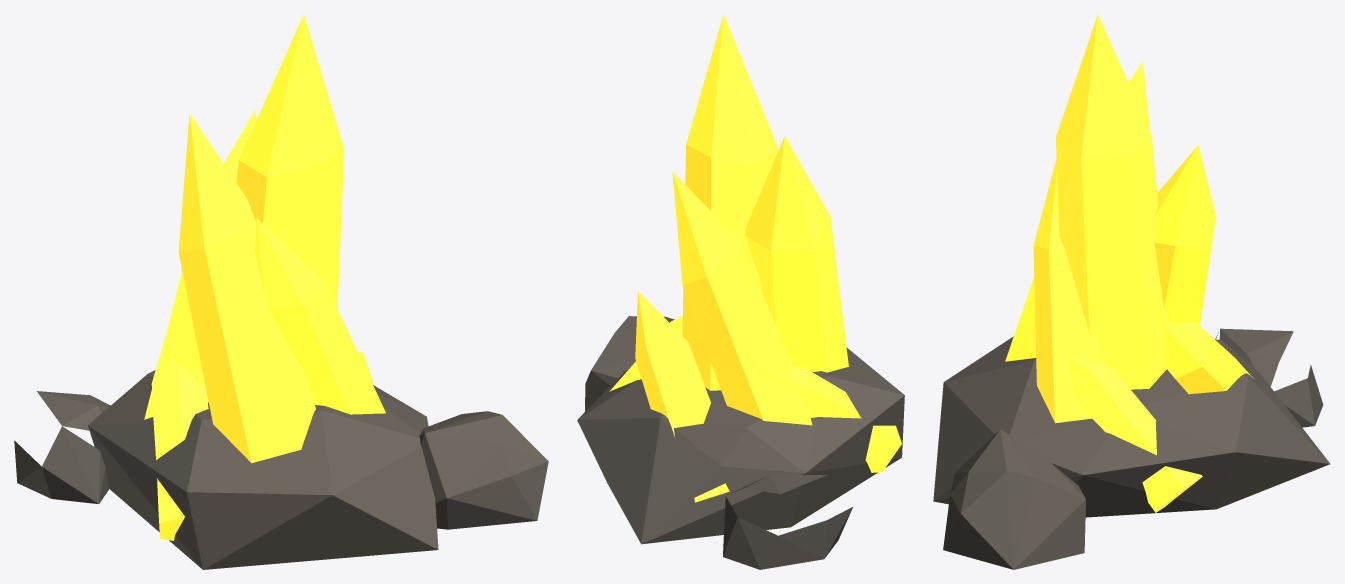
File: resource_sodium.glb
3 renders of one model, left to right at view 1: azimuth 30°, elevation 25°; view 2: azimuth 150°, elevation 25°; view 3: azimuth 270°, elevation 25°, orthographic. The views are drawn at different scales.
Parts seen in each view (by area): view 1: Body; view 2: Body; view 3: Body.
Boxes of the visible parts, x1,y1,x2,y2 form: Body: (14, 14, 548, 569); Body: (577, 14, 904, 569); Body: (933, 14, 1330, 569).
Size of the model in its own units: 1.17 by 1.37 by 1.06.
